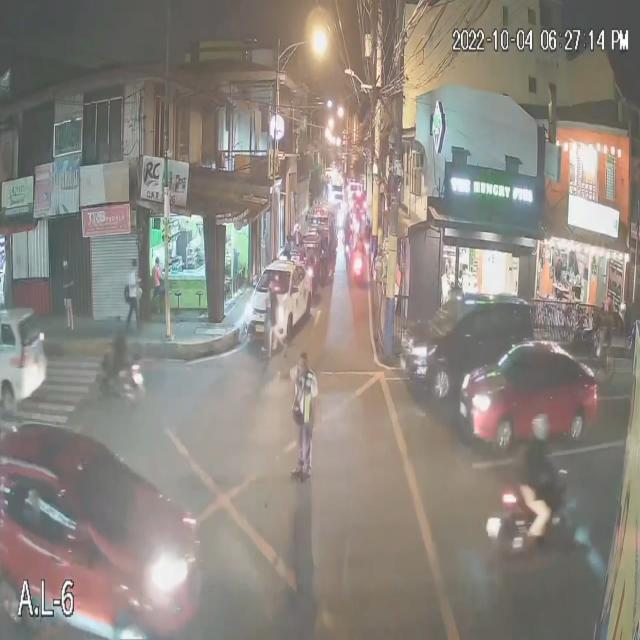Full-Faced: (530, 410, 550, 444)
